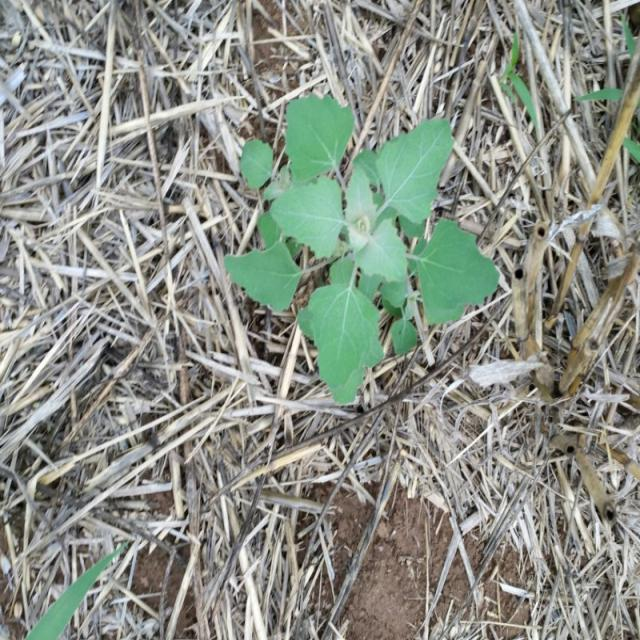goosefoots: (206, 88, 478, 370)
